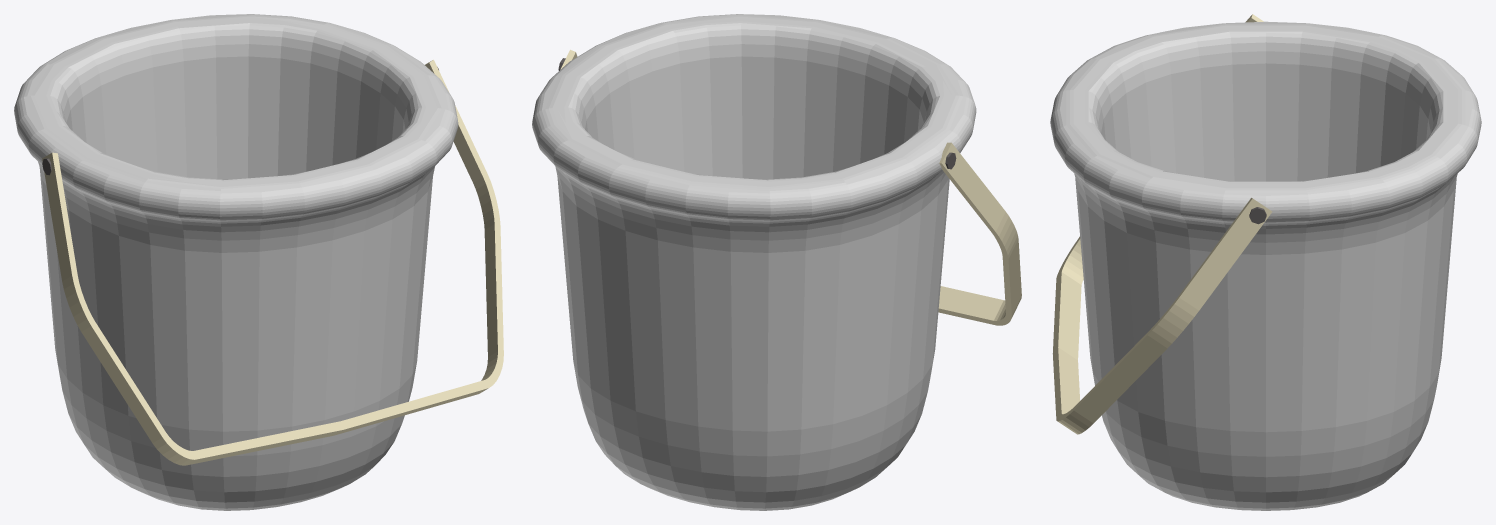
The model's file is bucket1.fbx.
3 views of the same model, side by side, from view 1: azimuth 30°, elevation 25°; view 2: azimuth 150°, elevation 25°; view 3: azimuth 270°, elevation 25° (orthographic).
Parts seen in each view (by area): view 1: Cube, Handle; view 2: Cube, Handle; view 3: Cube, Handle.
Part boxes in pixels (x1,y1,x2,y2): Cube: (14,14,458,510); Handle: (42,59,503,465); Cube: (532,14,976,510); Handle: (558,49,1021,325); Cube: (1050,21,1481,510); Handle: (1052,14,1272,434).
Size of the model in its own units: 239 by 194 by 216.
